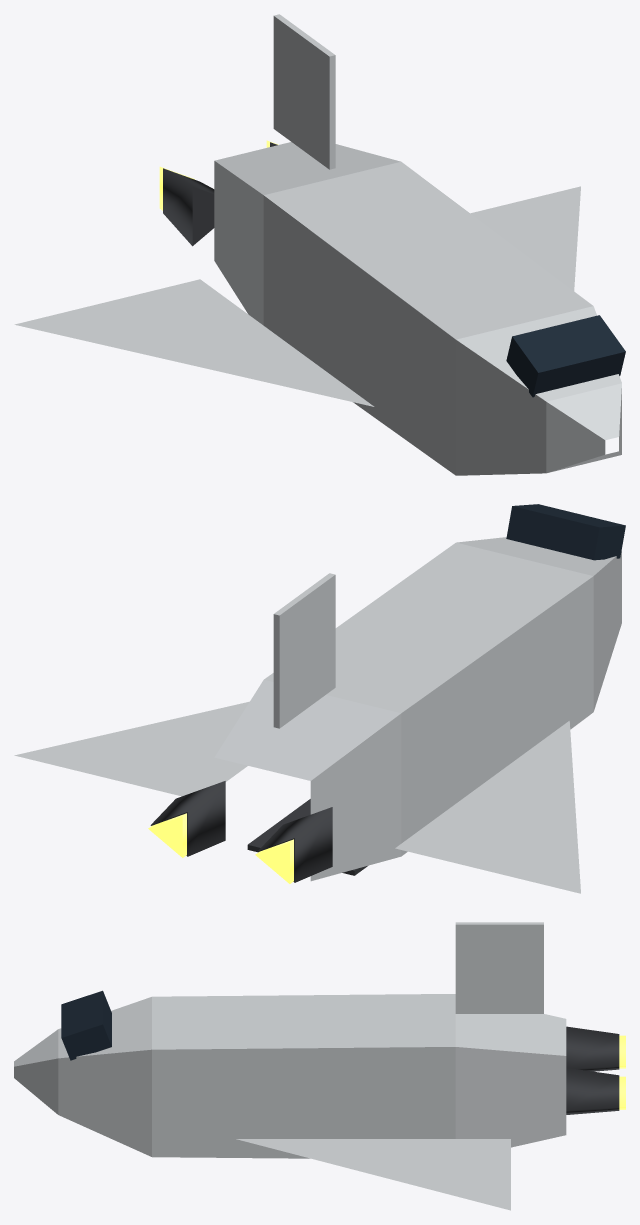
Rendered from space_ship_shuttle_mk2_lod2.glb.
The picture shows the model from 3 angles, top to bottom: view 1: azimuth 30°, elevation 25°; view 2: azimuth 150°, elevation 25°; view 3: azimuth 270°, elevation 25°; orthographic projection. The views are drawn at different scales.
Parts seen in each view (by area): view 1: body, engine_1; view 2: body, engine_0, engine_1, ramp; view 3: body, engine_0, engine_1.
Part boxes in pixels (x1=…): body: x1=14, y1=14, x2=625, y2=475; engine_1: x1=159, y1=166, x2=214, y2=246; body: x1=14, y1=504, x2=625, y2=893; engine_0: x1=148, y1=781, x2=225, y2=857; engine_1: x1=255, y1=807, x2=332, y2=883; ramp: x1=247, y1=799, x2=367, y2=875; body: x1=14, y1=922, x2=566, y2=1210; engine_0: x1=566, y1=1068, x2=625, y2=1114; engine_1: x1=566, y1=1026, x2=625, y2=1071.
Bounding box in the file's own units: 9.44 × 4.23 × 11.17.
